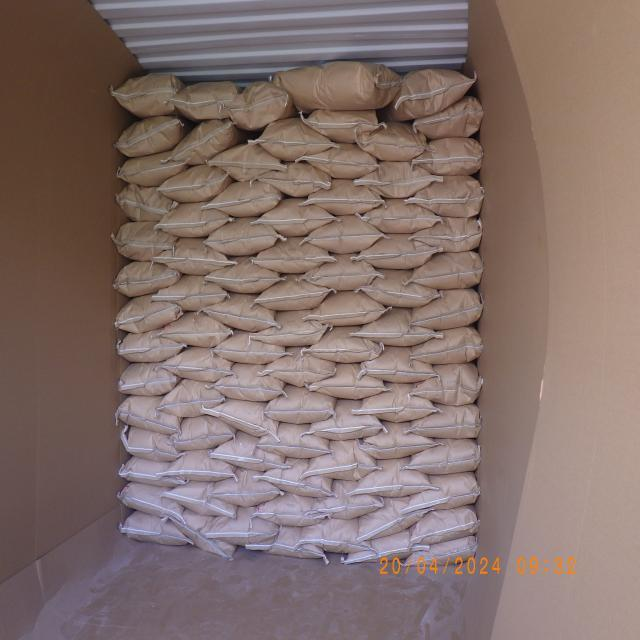gunny_bag: (275, 60, 403, 113), (390, 68, 474, 120), (256, 117, 336, 163), (169, 118, 243, 166), (358, 494, 428, 544), (168, 510, 235, 562), (109, 72, 183, 118), (212, 428, 290, 471), (306, 214, 385, 256), (230, 84, 296, 134), (356, 384, 438, 424), (354, 456, 432, 498), (358, 269, 439, 309), (358, 310, 438, 350), (308, 400, 384, 442), (408, 177, 482, 220), (406, 472, 481, 514), (256, 197, 334, 237), (410, 286, 484, 328), (306, 441, 380, 483), (259, 456, 333, 498), (414, 99, 486, 142), (114, 116, 184, 160), (308, 480, 385, 520), (204, 218, 281, 258), (410, 361, 480, 405), (207, 142, 282, 183), (308, 290, 388, 328), (204, 507, 280, 547), (356, 160, 436, 198), (347, 529, 429, 566), (260, 347, 335, 387), (171, 80, 242, 122), (358, 122, 429, 164), (306, 180, 384, 218), (254, 273, 332, 311), (358, 422, 436, 460), (262, 384, 336, 424), (212, 364, 286, 404), (253, 237, 333, 274), (356, 233, 436, 270), (411, 504, 481, 546), (153, 238, 230, 276), (309, 364, 386, 402), (360, 346, 437, 384), (305, 255, 380, 294), (157, 164, 230, 204), (412, 252, 485, 292), (206, 179, 282, 217), (308, 326, 384, 364), (204, 294, 278, 333), (412, 326, 484, 366), (303, 109, 383, 145), (246, 526, 326, 562), (206, 257, 281, 295), (153, 274, 228, 312), (209, 399, 280, 439), (208, 469, 282, 507), (164, 480, 238, 518), (361, 198, 439, 234), (410, 136, 482, 175), (114, 296, 183, 336), (256, 423, 330, 460), (304, 142, 380, 178), (252, 312, 328, 348), (158, 378, 224, 419), (301, 520, 376, 556), (162, 311, 234, 348), (258, 161, 330, 198), (115, 222, 178, 264), (407, 437, 480, 473), (409, 404, 482, 440), (157, 202, 230, 238), (118, 395, 182, 436), (160, 346, 232, 382), (212, 330, 286, 365), (119, 510, 190, 546), (170, 414, 237, 452), (120, 482, 187, 520), (117, 151, 187, 187), (255, 492, 327, 527), (410, 216, 480, 252), (404, 535, 480, 568), (167, 449, 238, 484), (116, 329, 186, 364), (115, 262, 182, 298), (120, 426, 182, 464), (117, 362, 180, 398), (118, 456, 186, 489), (117, 186, 176, 223)
